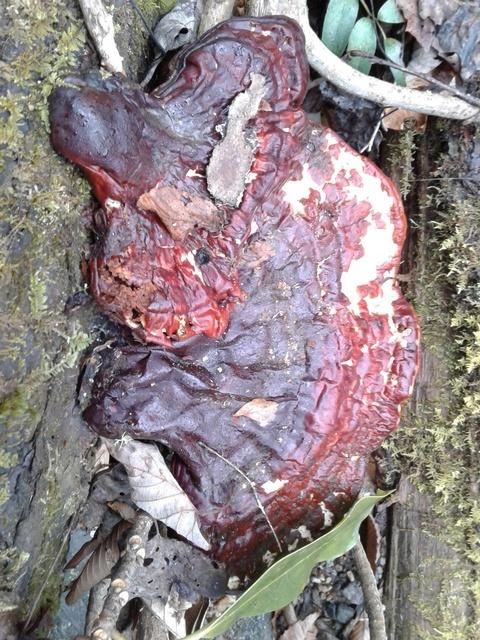poisonous_mushroom: (46, 13, 422, 580)
